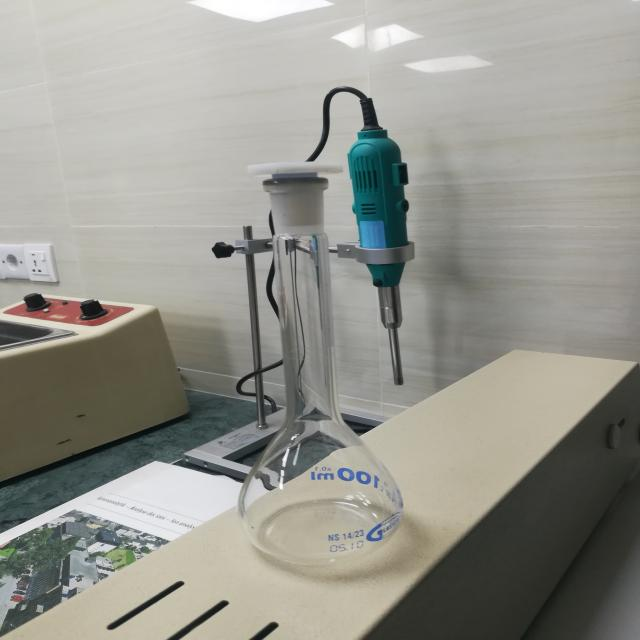Volumetric_Flask: (207, 125, 440, 591)
